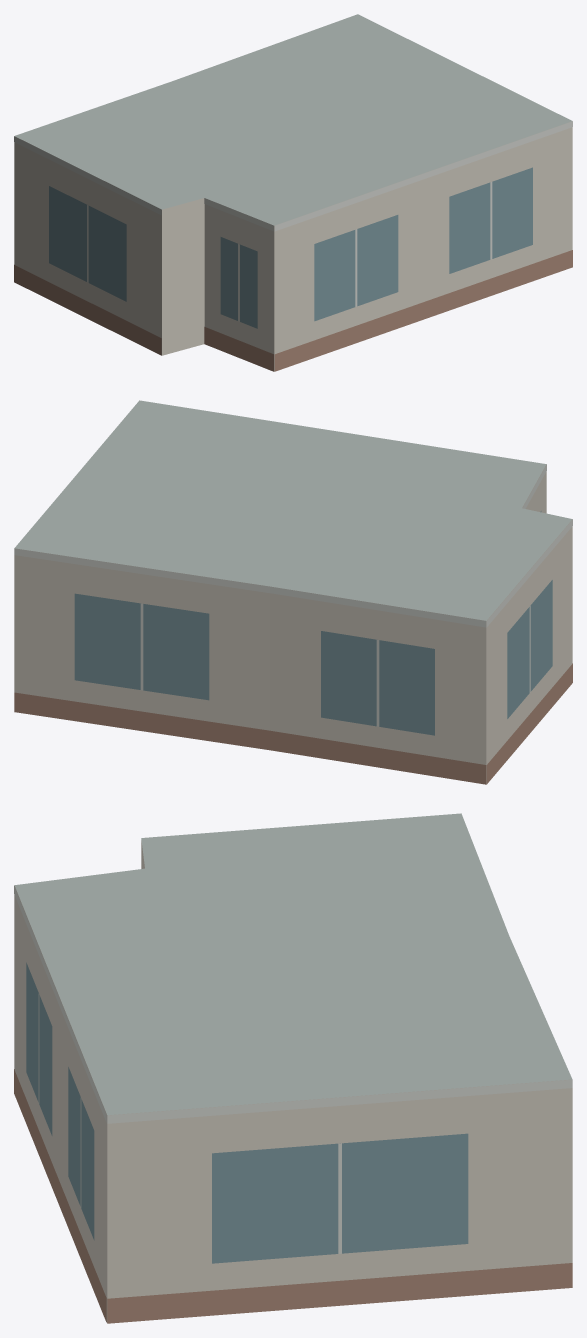
Rendered from survey-upis-32723722.glb.
The picture shows the model from 3 angles, top to bottom: view 1: azimuth 30°, elevation 25°; view 2: azimuth 150°, elevation 25°; view 3: azimuth 270°, elevation 25°; orthographic projection. The views are drawn at different scales.
Visible parts, largest first — view 1: survey-upis-32723722.tmp; view 2: survey-upis-32723722.tmp; view 3: survey-upis-32723722.tmp.
Part boxes in pixels (bbox=[...]): survey-upis-32723722.tmp: bbox=[14, 14, 572, 371]; survey-upis-32723722.tmp: bbox=[14, 400, 572, 784]; survey-upis-32723722.tmp: bbox=[14, 813, 572, 1323].
Size of the model in its own units: 9.5 by 3.05 by 7.42.
